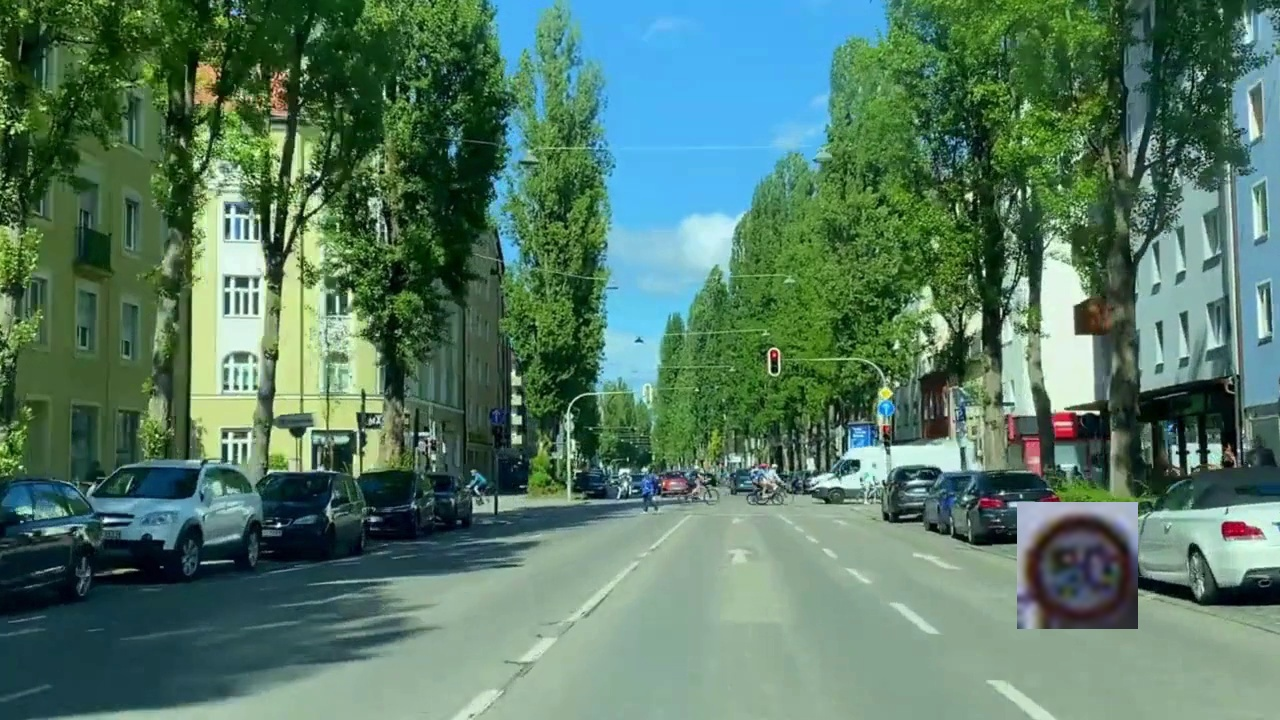Speed 50: (1017, 502, 1138, 629)
